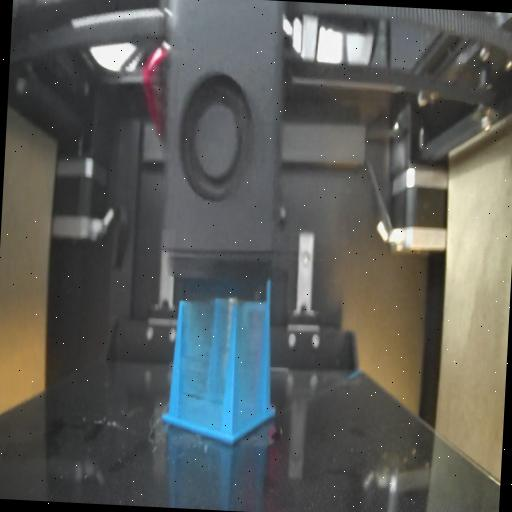stringing: (173, 298, 233, 438), (233, 300, 268, 438)
